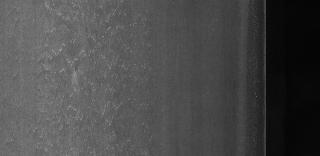silk spot: (18, 74, 136, 140), (29, 36, 131, 84), (41, 0, 121, 42)
